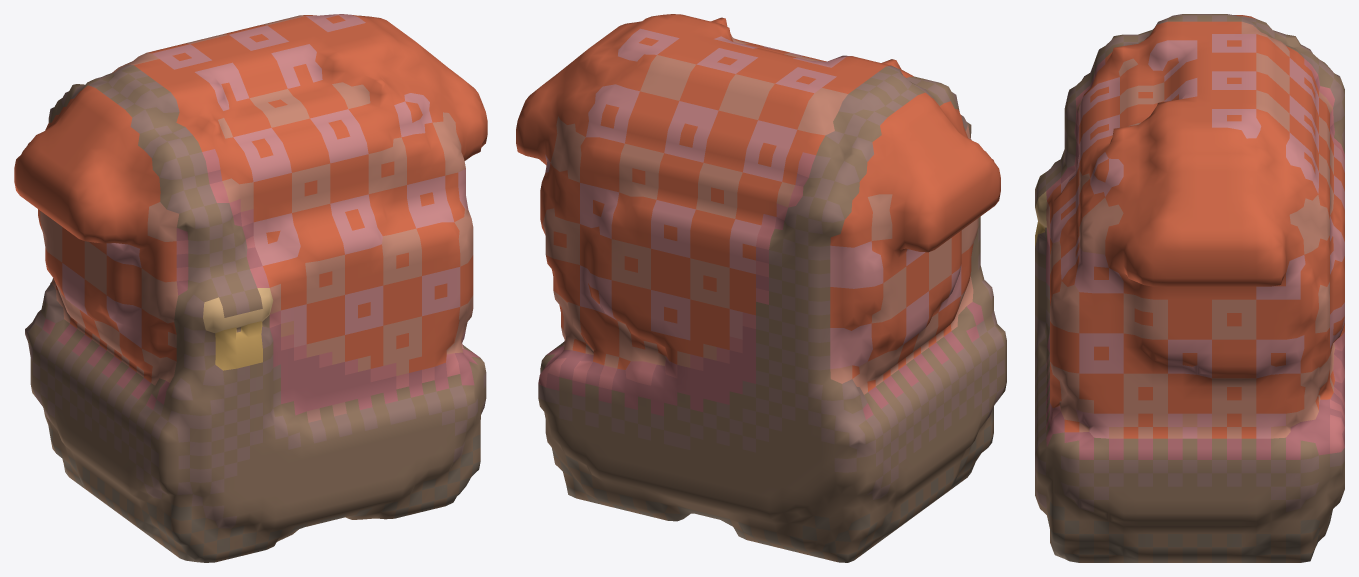
The picture shows the model from 3 angles, left to right: view 1: azimuth 30°, elevation 25°; view 2: azimuth 150°, elevation 25°; view 3: azimuth 270°, elevation 25°; orthographic projection. The views are drawn at different scales.
Size of the model in its own units: 1.6 by 1.6 by 1.05.
